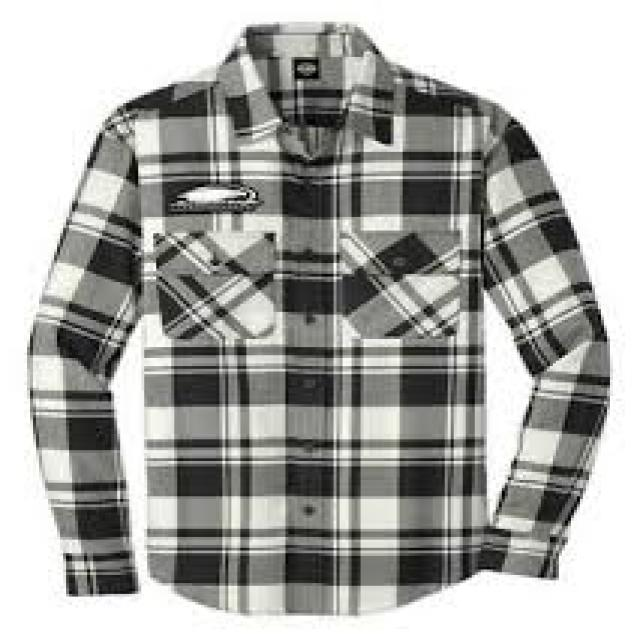plaid: (25, 17, 621, 611)
